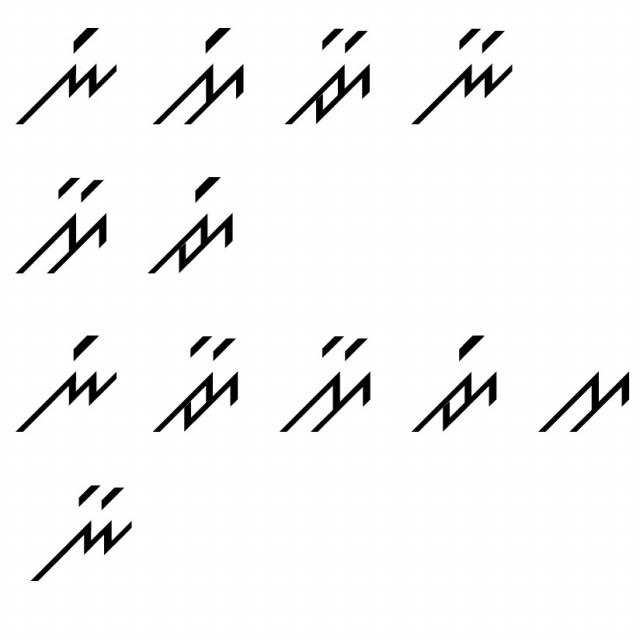jan: (143, 322, 242, 443), (281, 25, 385, 136)
jang: (399, 330, 500, 444), (139, 175, 242, 278)
nyan: (7, 310, 123, 434), (409, 15, 526, 130), (26, 473, 143, 586)
nyang: (12, 20, 124, 126)
sa: (532, 350, 632, 440)
san: (271, 322, 378, 437), (9, 170, 116, 280)
sang: (149, 19, 252, 128)
